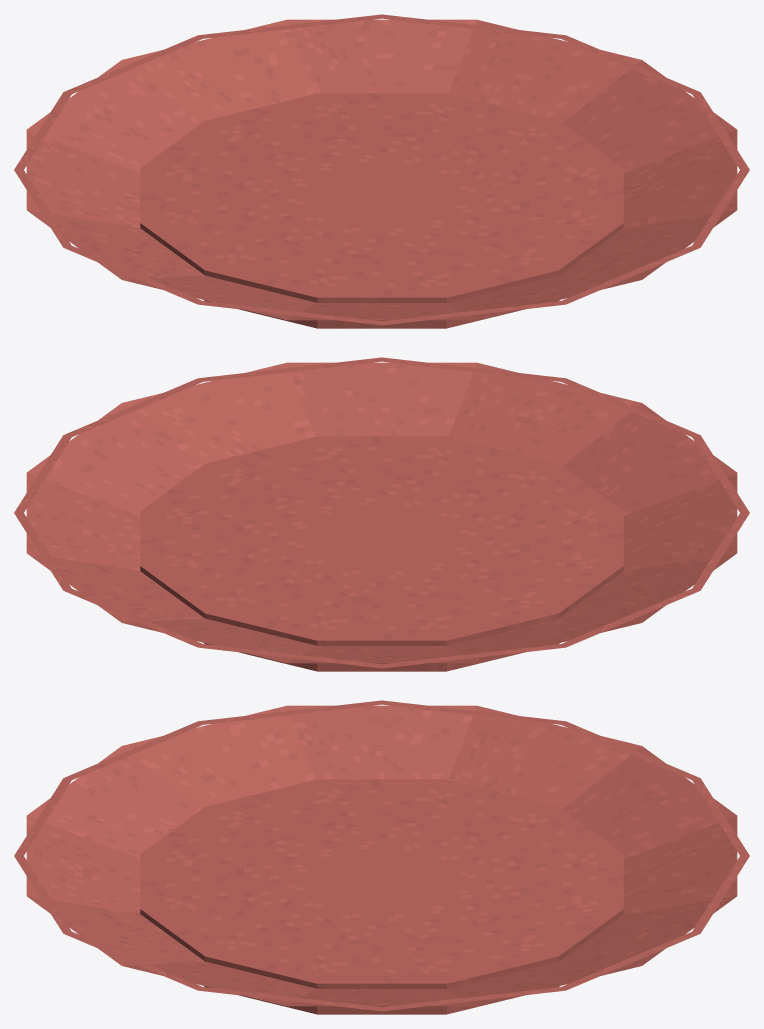
Rendered from plastic_plate.glb.
3 views of the same model, one above another, from view 1: azimuth 30°, elevation 25°; view 2: azimuth 150°, elevation 25°; view 3: azimuth 270°, elevation 25° (orthographic).
Visible parts, largest first — view 1: block_raised sides, block_thick foot, block_rolled rim 3, block_rolled rim 4, block_rolled rim 9, block_rolled rim 10, block_rolled rim 2, block_rolled rim 5, block_rolled rim 8, block_rolled rim 11, block_rolled rim 0, block_rolled rim 7 (+2 smaller); view 2: block_raised sides, block_thick foot, block_rolled rim 7, block_rolled rim 8, block_rolled rim 1, block_rolled rim 2, block_rolled rim 0, block_rolled rim 3, block_rolled rim 6, block_rolled rim 9, block_rolled rim 4, block_rolled rim 11 (+2 smaller); view 3: block_raised sides, block_thick foot, block_rolled rim 0, block_rolled rim 11, block_rolled rim 5, block_rolled rim 6, block_rolled rim 1, block_rolled rim 4, block_rolled rim 7, block_rolled rim 10, block_rolled rim 3, block_rolled rim 8 (+2 smaller).
Boxes of the visible parts, x1,y1,x2,y2 form: block_raised sides: (26,19,737,320); block_thick foot: (140,93,623,328); block_rolled rim 3: (382,301,565,325); block_rolled rim 4: (198,301,381,325); block_rolled rim 9: (198,14,381,38); block_rolled rim 10: (382,14,565,38); block_rolled rim 2: (561,245,699,304); block_rolled rim 5: (64,245,202,304); block_rolled rim 8: (63,35,202,94); block_rolled rim 11: (561,35,700,94); block_rolled rim 0: (692,92,749,169); block_rolled rim 7: (14,92,71,169); block_raised sides: (26,362,737,663); block_thick foot: (140,436,623,671); block_rolled rim 7: (382,644,565,668); block_rolled rim 8: (198,644,381,668); block_rolled rim 1: (198,357,381,381); block_rolled rim 2: (382,357,565,381); block_rolled rim 0: (63,378,202,437); block_rolled rim 3: (561,378,700,437); block_rolled rim 6: (561,588,699,647); block_rolled rim 9: (64,588,202,647); block_rolled rim 4: (692,435,749,512); block_rolled rim 11: (14,435,71,512); block_raised sides: (26,705,737,1006); block_thick foot: (140,779,623,1014); block_rolled rim 0: (198,987,381,1011); block_rolled rim 11: (382,987,565,1011); block_rolled rim 5: (198,700,381,724); block_rolled rim 6: (382,700,565,724); block_rolled rim 1: (64,931,202,990); block_rolled rim 4: (63,721,202,780); block_rolled rim 7: (561,721,700,780); block_rolled rim 10: (561,931,699,990); block_rolled rim 3: (14,778,71,855); block_rolled rim 8: (692,778,749,855).
Bounding box in the file's own units: 0.26 × 0.022 × 0.26.
Materials: 2 (2 with a texture image).
